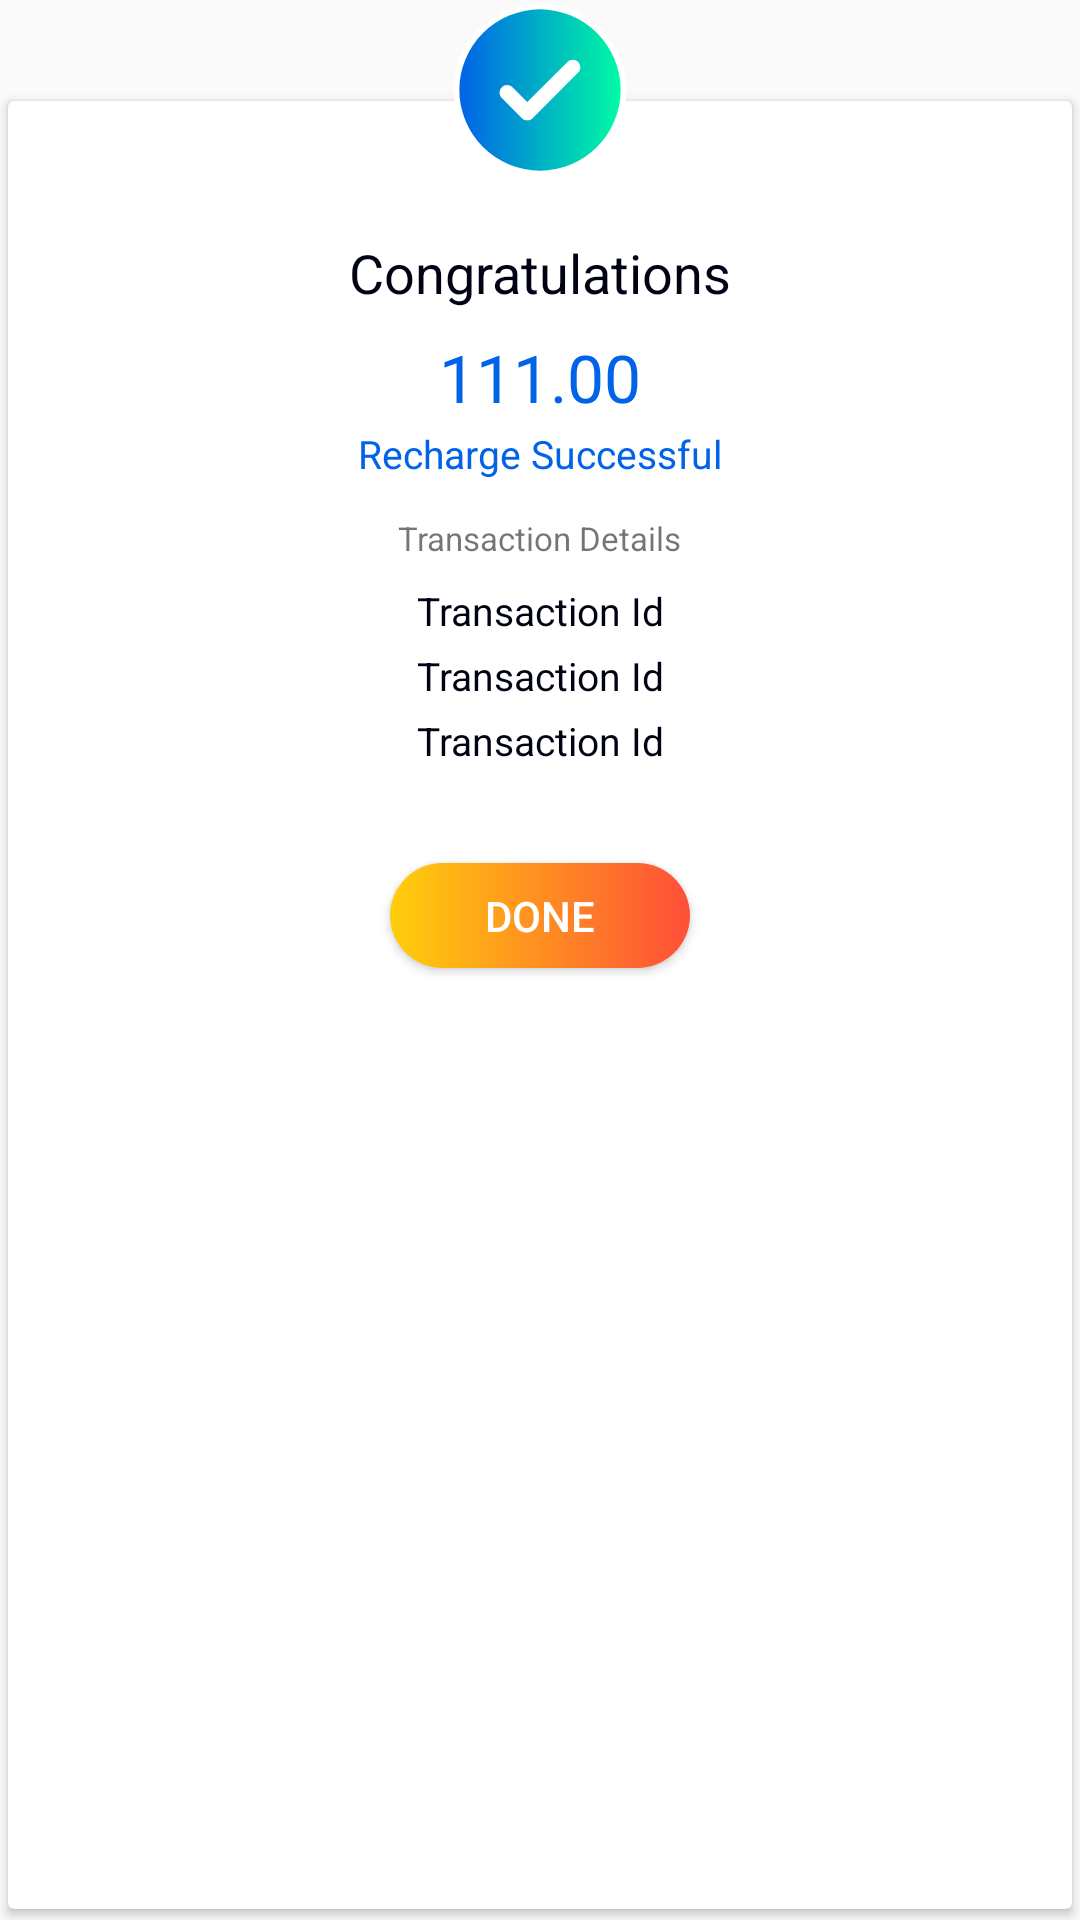

Named icons in this screenshot (1080x1920) and their centers, point (x, y):
success: point (540, 90)
